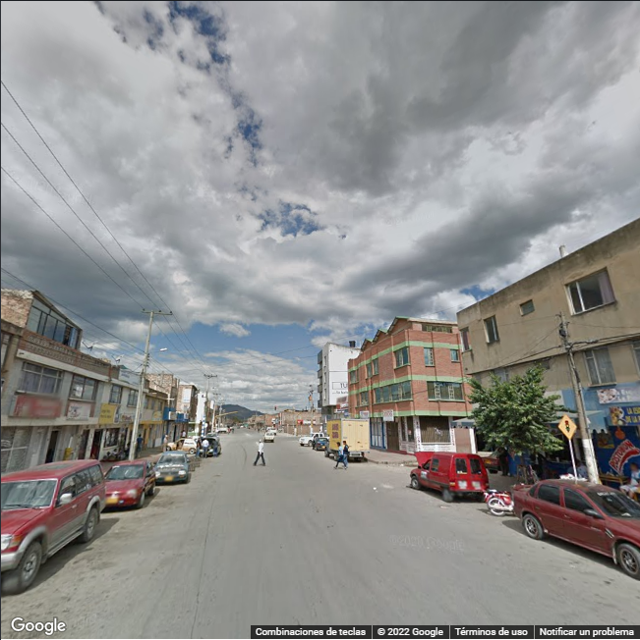D00: (140, 550, 184, 635), (193, 510, 216, 638)
